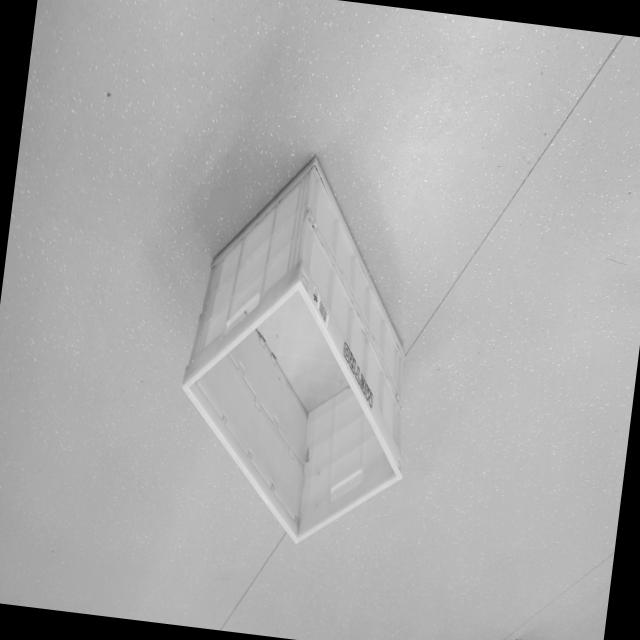box: (160, 128, 444, 559)
